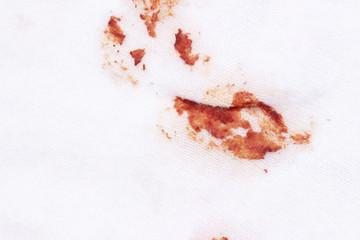gun: (170, 90, 314, 162), (93, 16, 144, 84), (132, 0, 174, 41), (172, 25, 211, 66), (152, 119, 168, 143), (208, 232, 228, 239)
